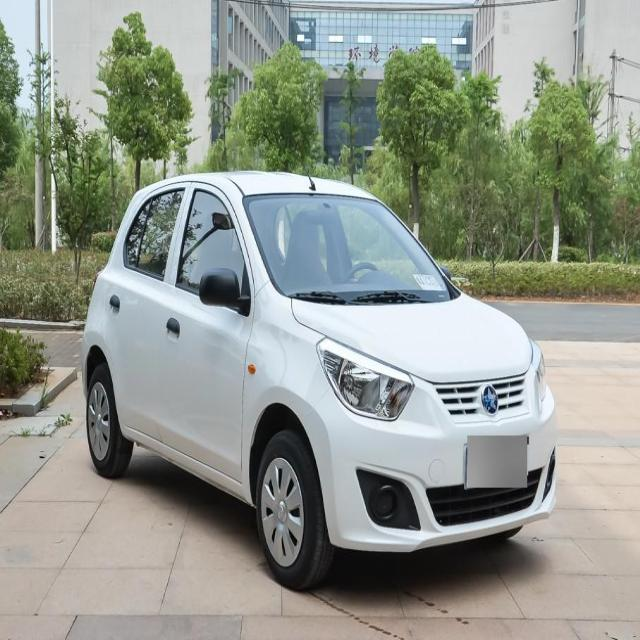door: (104, 183, 191, 430)
front_bumper: (300, 385, 559, 553)
front_glass: (244, 191, 456, 311)
front_left_side_light: (532, 347, 550, 414)
front_right_side_door: (152, 180, 256, 489)
front_right_side_light: (313, 338, 415, 422)
front_right_side_mirror: (198, 262, 248, 316)
wheel: (256, 427, 333, 592), (84, 360, 132, 478)
